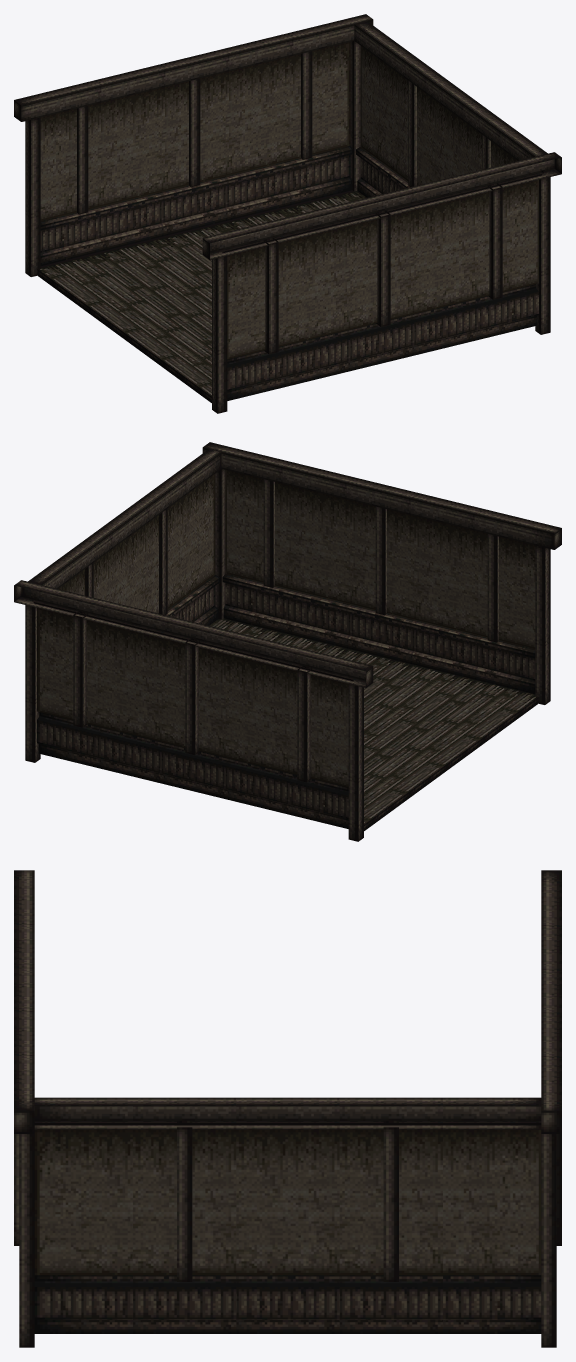
The model's file is EnvBdgMD_WoodHouse_A_Indoor_House_E.FBX.
3 views of the same model, one above another, from view 1: azimuth 30°, elevation 25°; view 2: azimuth 150°, elevation 25°; view 3: azimuth 270°, elevation 25° (orthographic). The views are drawn at different scales.
Parts seen in each view (by area): view 1: EnvBdgMD_WoodHouse_A_Indoor_House_E; view 2: EnvBdgMD_WoodHouse_A_Indoor_House_E; view 3: EnvBdgMD_WoodHouse_A_Indoor_House_E.
Part boxes in pixels (x1=…): EnvBdgMD_WoodHouse_A_Indoor_House_E: x1=14, y1=14, x2=561, y2=413; EnvBdgMD_WoodHouse_A_Indoor_House_E: x1=14, y1=442, x2=561, y2=841; EnvBdgMD_WoodHouse_A_Indoor_House_E: x1=14, y1=870, x2=561, y2=1347.
Bounding box in the file's own units: 1100 × 520 × 1060.
1 material, 1 textured.
